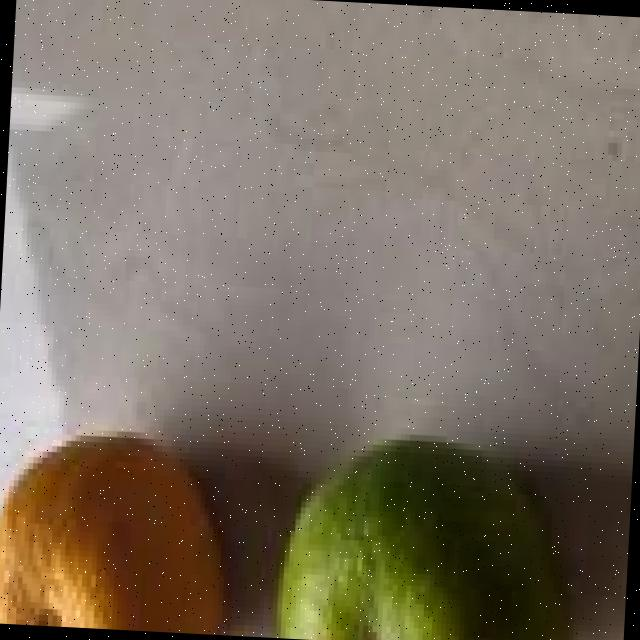Good_Orange-15-21 days: (276, 436, 570, 640), (0, 439, 231, 635)
